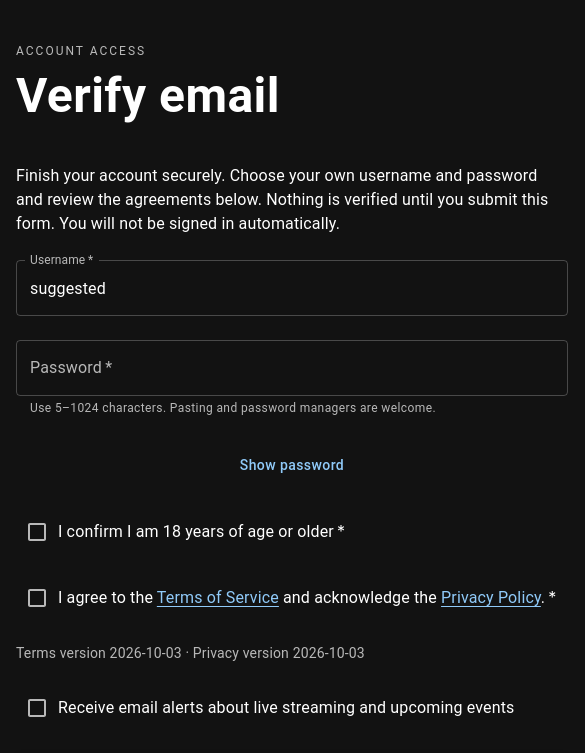
Test: submits an explicitly selected optional alert preference and accepts a pasted password
The image size is (585, 753).
Type "pasted password 123" into the password field labelled "Password *". click: point(292, 368)
box: [16,340,568,396]
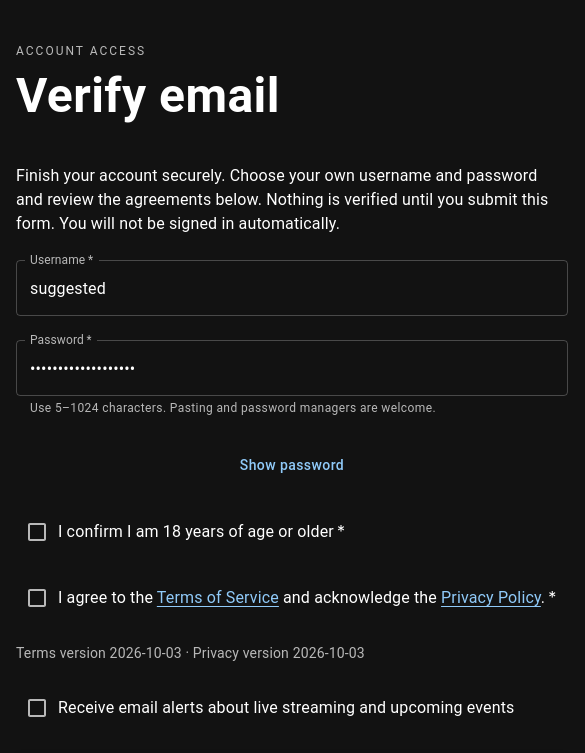
Click the checkbox labelled "I confirm I am 18 years of age or older *". click: point(185, 532)
box: [25,520,345,544]
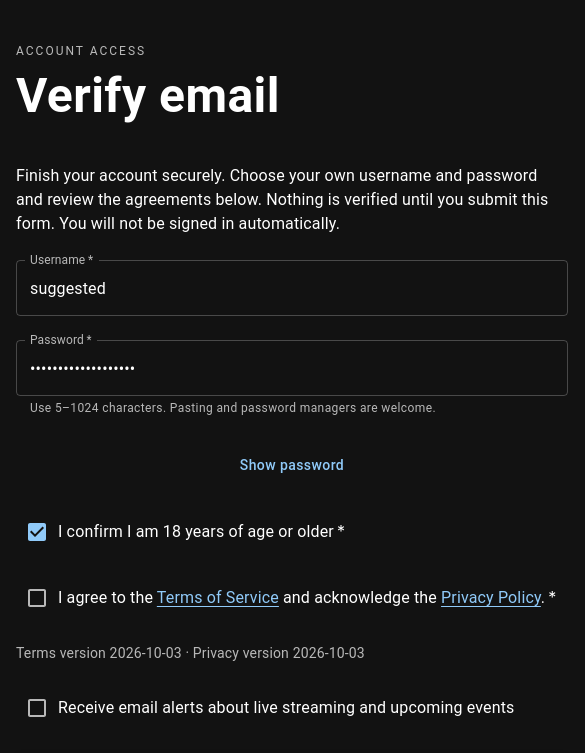
Click the checkbox labelled "I agree". click: point(291, 598)
box: [25,586,556,610]
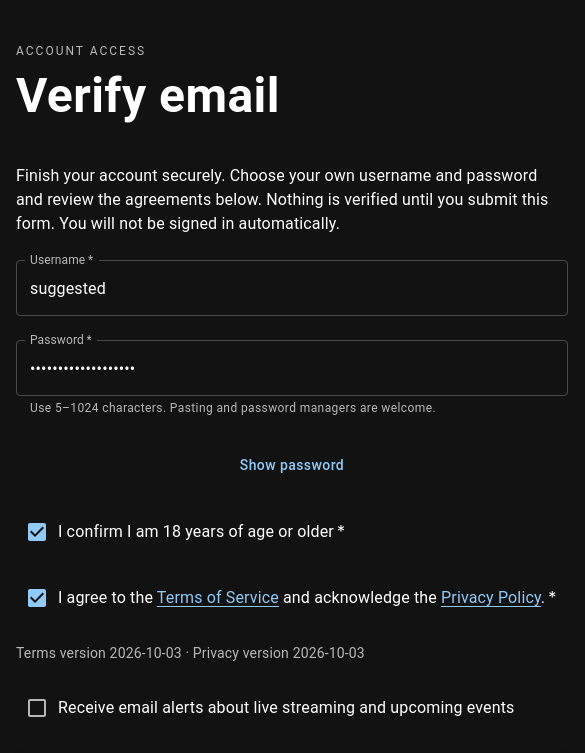
Click the checkbox labelled "Receive email alerts". click: point(270, 708)
box: [25,696,514,720]
(page scrolled)
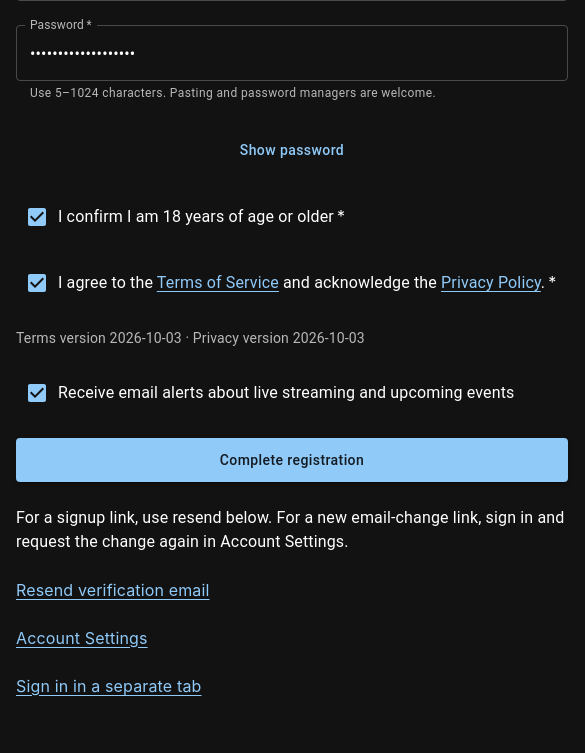
Click the button "Complete registration". click: point(292, 460)
box: [16,438,568,482]
(page scrolled)
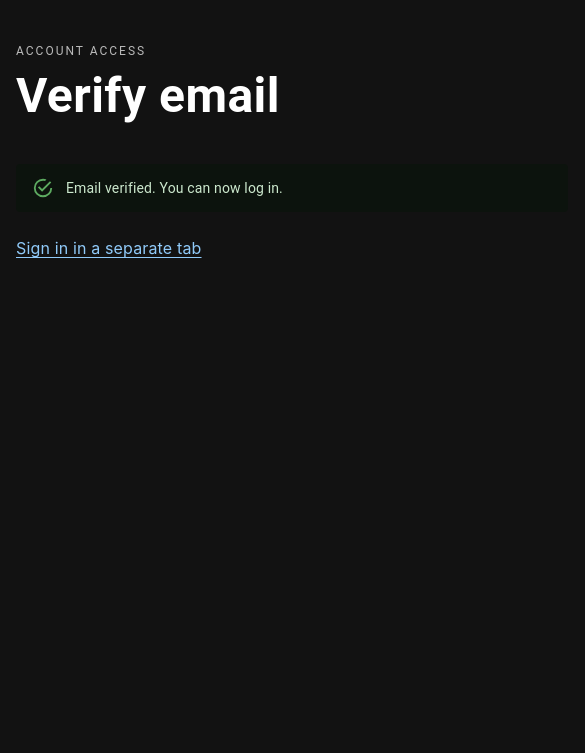
Check: the text "Email verified. You can now log in." is shown, box [66,180,283,196]
